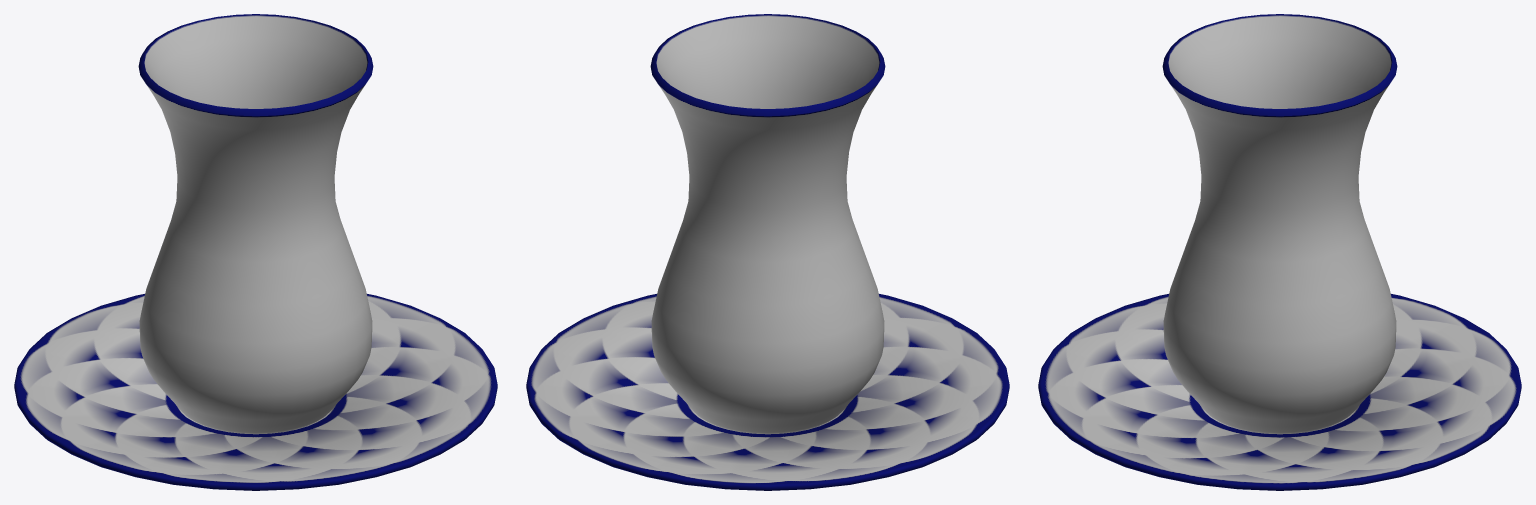
The model's file is Tea_Cup.obj.
3 views of the same model, side by side, from view 1: azimuth 30°, elevation 25°; view 2: azimuth 150°, elevation 25°; view 3: azimuth 270°, elevation 25° (orthographic).
Parts seen in each view (by area): view 1: Cup, Saucer; view 2: Cup, Saucer; view 3: Cup, Saucer.
Part boxes in pixels (bbox=[...]): Cup: bbox=[138, 14, 373, 434]; Saucer: bbox=[14, 294, 497, 490]; Cup: bbox=[650, 14, 885, 434]; Saucer: bbox=[526, 294, 1009, 490]; Cup: bbox=[1162, 14, 1397, 434]; Saucer: bbox=[1038, 294, 1521, 490].
Size of the model in its own units: 3.94 by 3.13 by 3.93.
1 material, 1 textured.
